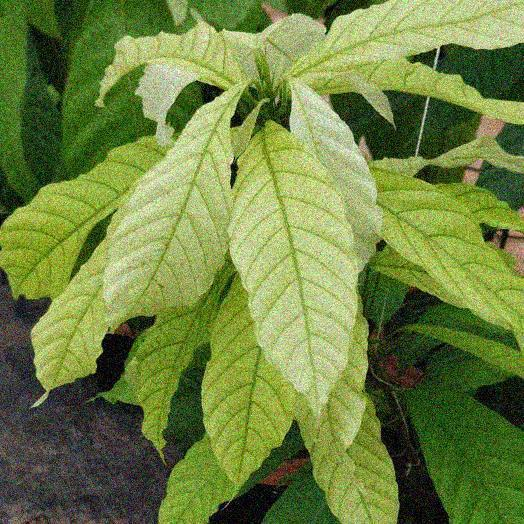Iron: (228, 121, 357, 415), (104, 85, 243, 326), (291, 0, 523, 93), (290, 81, 381, 270), (31, 240, 108, 405)
